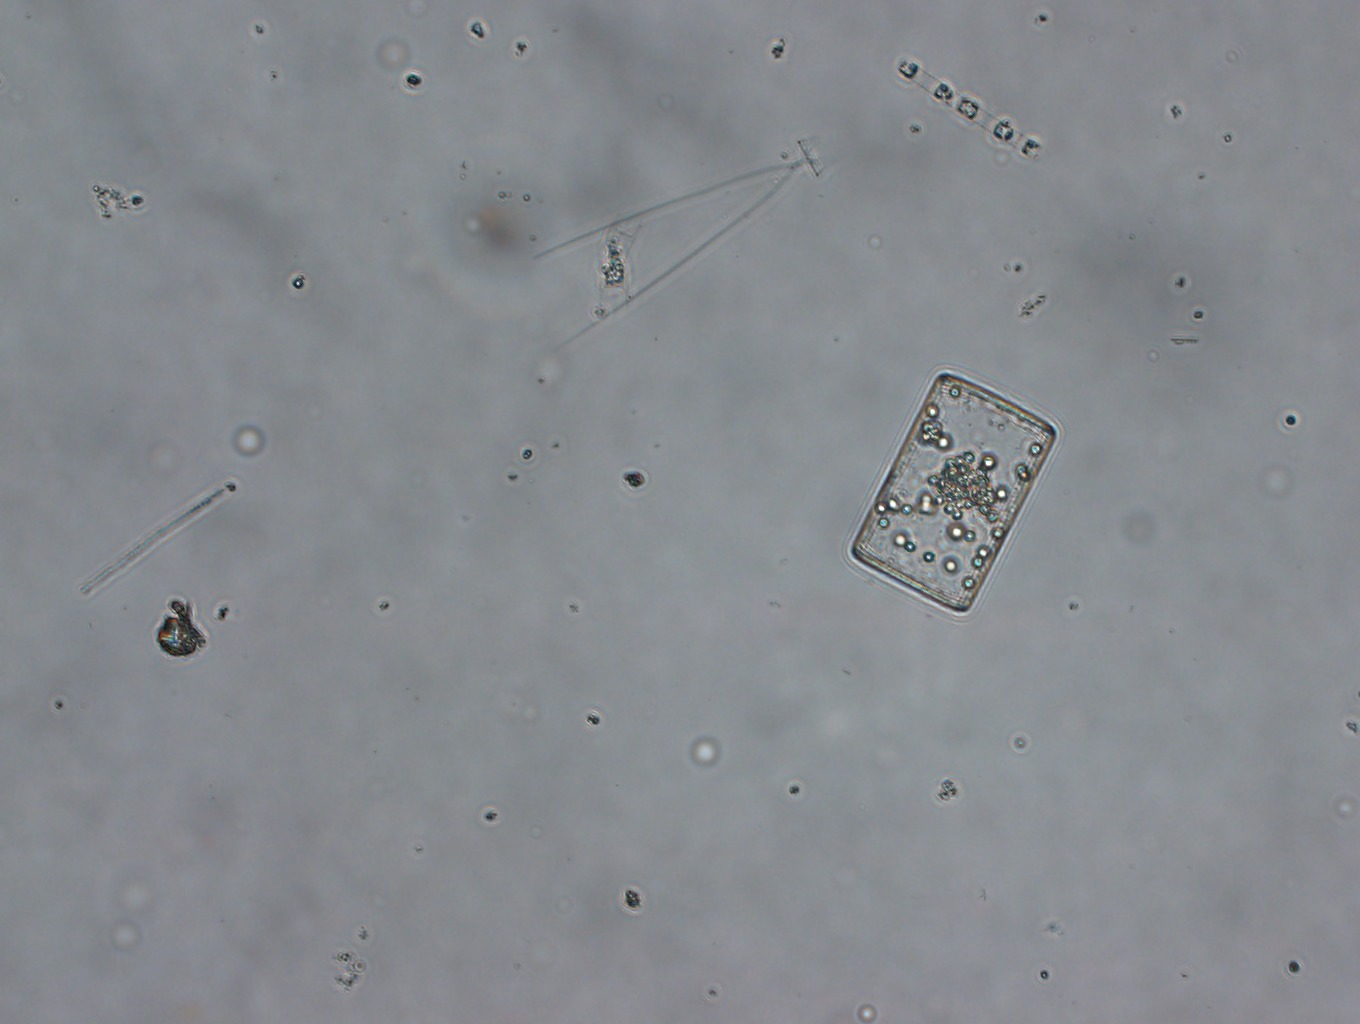chaetoceros: (531, 134, 829, 349)
guinardia flaccida: (849, 369, 1055, 618)
skeletonema: (894, 56, 1041, 159)
